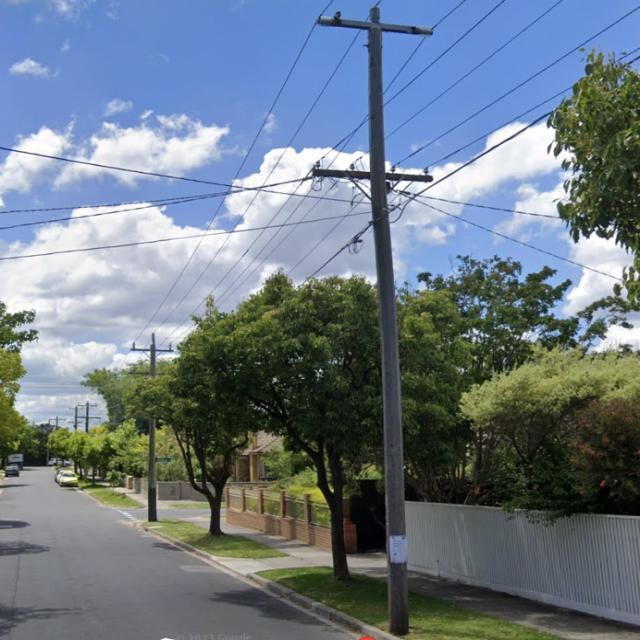HV-transmission: (316, 7, 433, 38), (132, 331, 172, 352), (77, 401, 97, 407), (68, 404, 84, 410)
crossarm: (312, 168, 434, 183), (332, 17, 420, 36), (130, 371, 177, 376), (130, 348, 173, 352), (75, 416, 102, 420), (49, 418, 65, 421), (68, 421, 82, 424), (77, 405, 97, 407), (69, 408, 84, 410)
timber-pole: (368, 20, 412, 638), (147, 344, 159, 522), (84, 403, 90, 483), (74, 407, 78, 474), (56, 416, 59, 467)
